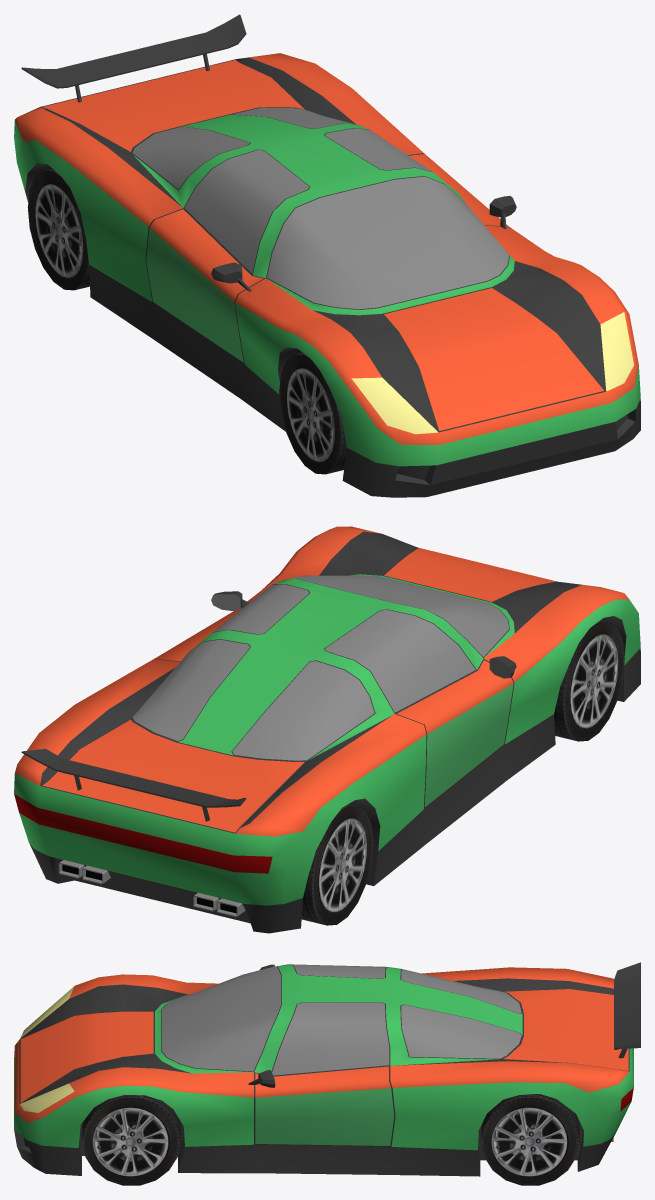
Rendered from car_10.FBX.
The picture shows the model from 3 angles, top to bottom: view 1: azimuth 30°, elevation 25°; view 2: azimuth 150°, elevation 25°; view 3: azimuth 270°, elevation 25°; orthographic projection. The views are drawn at different scales.
Parts seen in each view (by area): view 1: Object007, Cylinder038, Cylinder037; view 2: Object007, Cylinder037, Cylinder038; view 3: Object007, Cylinder039, Cylinder040.
Part boxes in pixels (bbox=[...]): Object007: bbox=[14, 14, 640, 497]; Cylinder038: bbox=[279, 352, 346, 474]; Cylinder037: bbox=[27, 168, 89, 290]; Object007: bbox=[14, 526, 640, 933]; Cylinder037: bbox=[301, 803, 373, 925]; Cylinder038: bbox=[554, 619, 624, 741]; Object007: bbox=[14, 962, 640, 1176]; Cylinder039: bbox=[481, 1094, 579, 1185]; Cylinder040: bbox=[82, 1095, 180, 1185].
Bounding box in the file's own units: 2.14 × 1.22 × 4.88.
